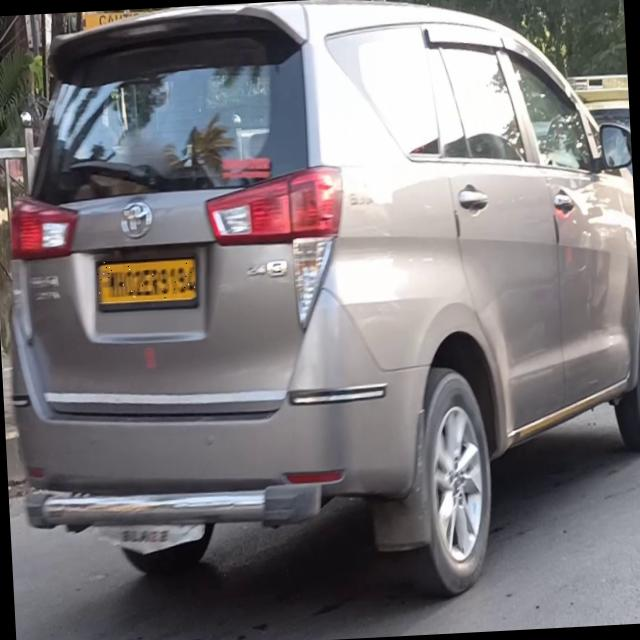Plate: (97, 258, 198, 304)
